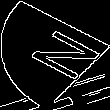N_SE: (10, 23, 100, 87)
